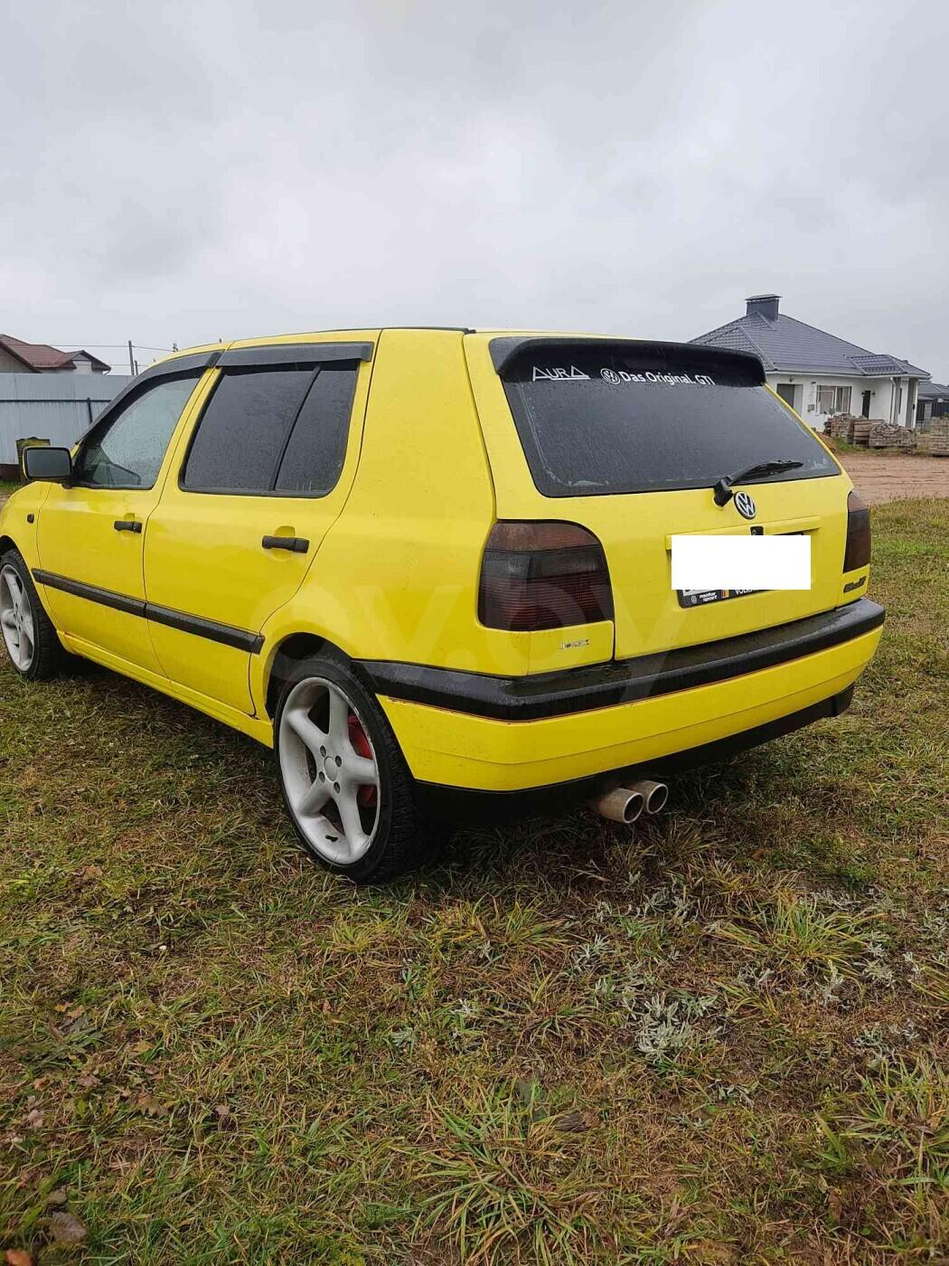Golf_1991-2000: (0, 321, 883, 877)
